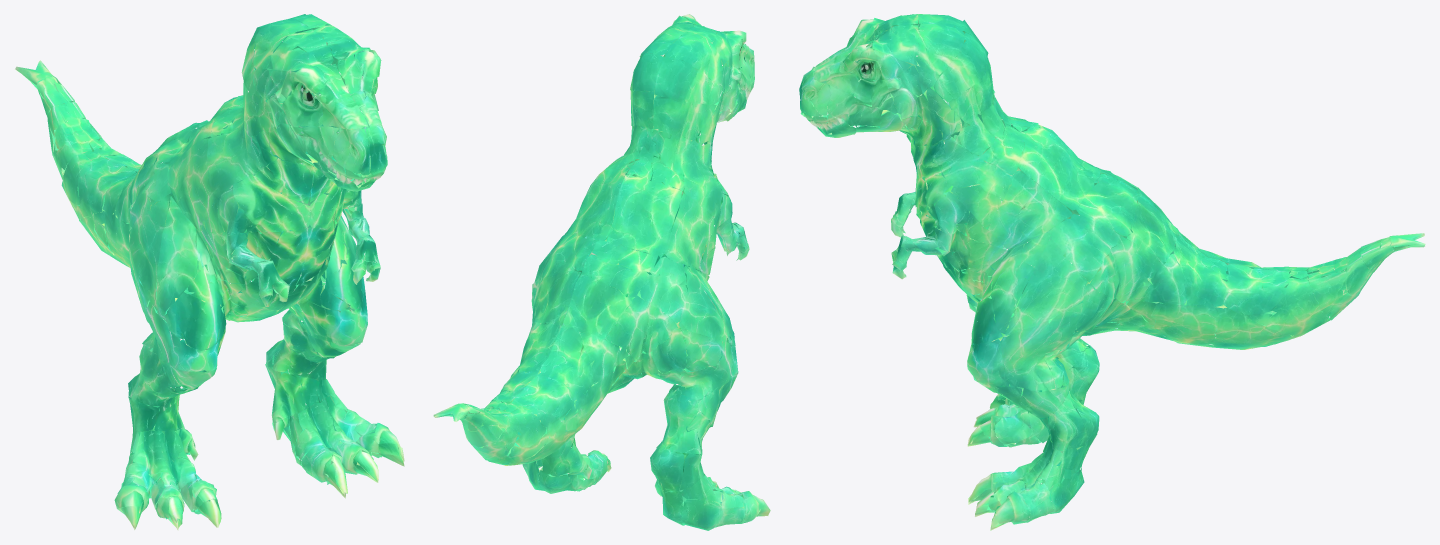
Rendered from trex.glb.
3 renders of one model, left to right at view 1: azimuth 30°, elevation 25°; view 2: azimuth 150°, elevation 25°; view 3: azimuth 270°, elevation 25°, orthographic. The views are drawn at different scales.
Parts seen in each view (by area): view 1: Mesh_0.001; view 2: Mesh_0.001; view 3: Mesh_0.001.
Boxes of the visible parts, bbox=[...] form: Mesh_0.001: bbox=[14, 14, 404, 530]; Mesh_0.001: bbox=[433, 14, 770, 530]; Mesh_0.001: bbox=[799, 14, 1425, 530].
Size of the model in its own units: 0.8679 by 1.53 by 1.9.
Materials: 1 (1 with a texture image).
